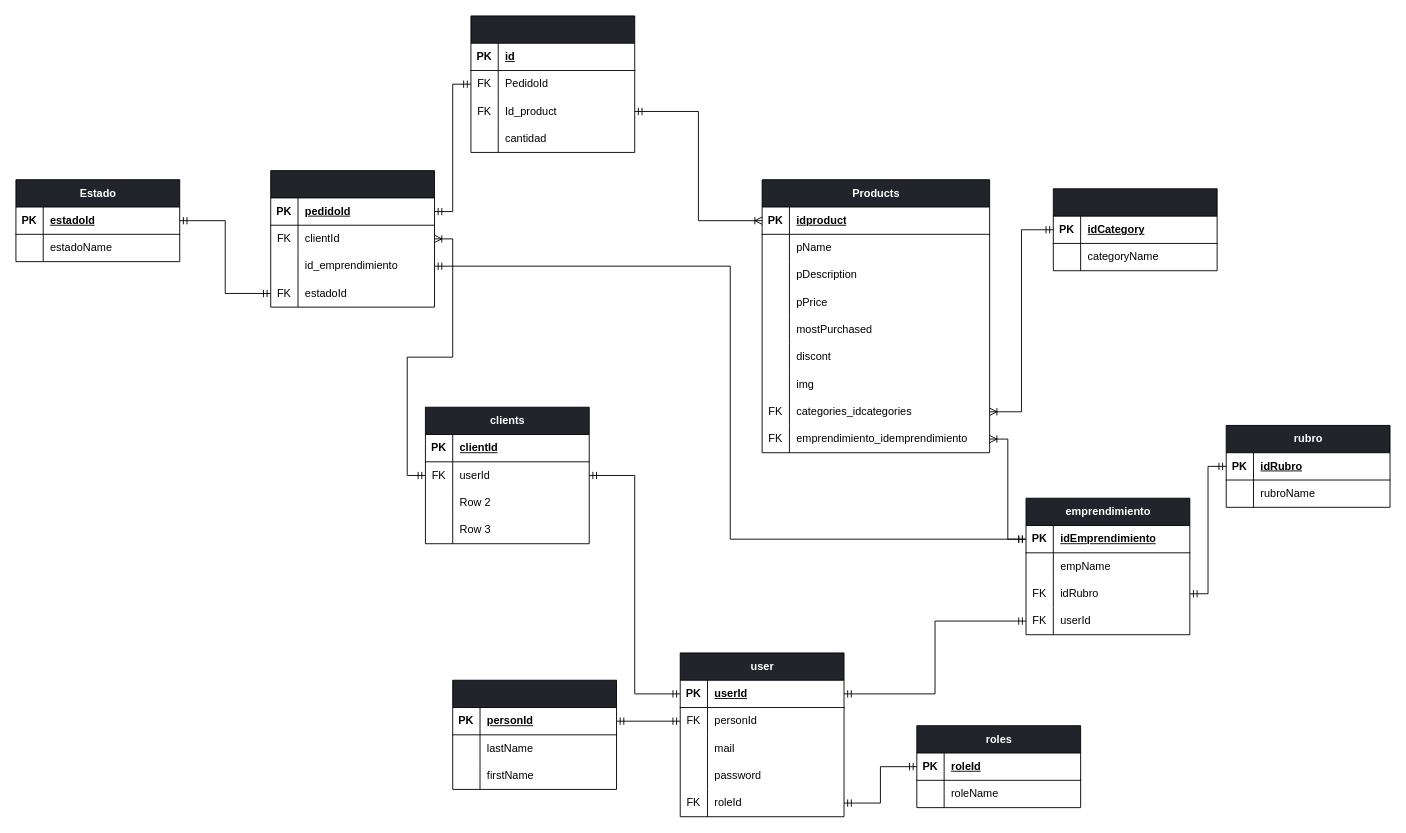
This 1406x833 diagram has some shape labels left out. The box of each missing label's shape, as (x1, y1, x2, y2) in pixels:
categories: (1052, 188, 1217, 271)
Pedidos: (270, 170, 435, 307)
Pedidos-details: (470, 15, 635, 152)
persona: (452, 679, 617, 789)
